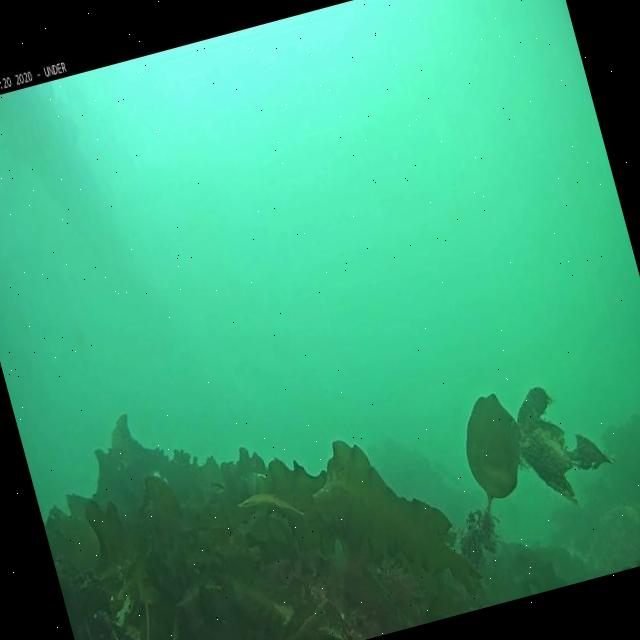fish: (237, 482, 305, 534), (206, 476, 230, 500)
